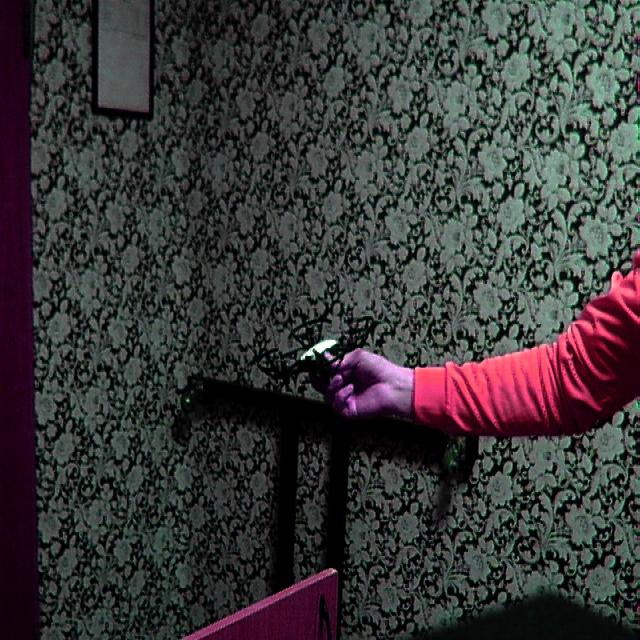drone: (255, 290, 383, 400)
